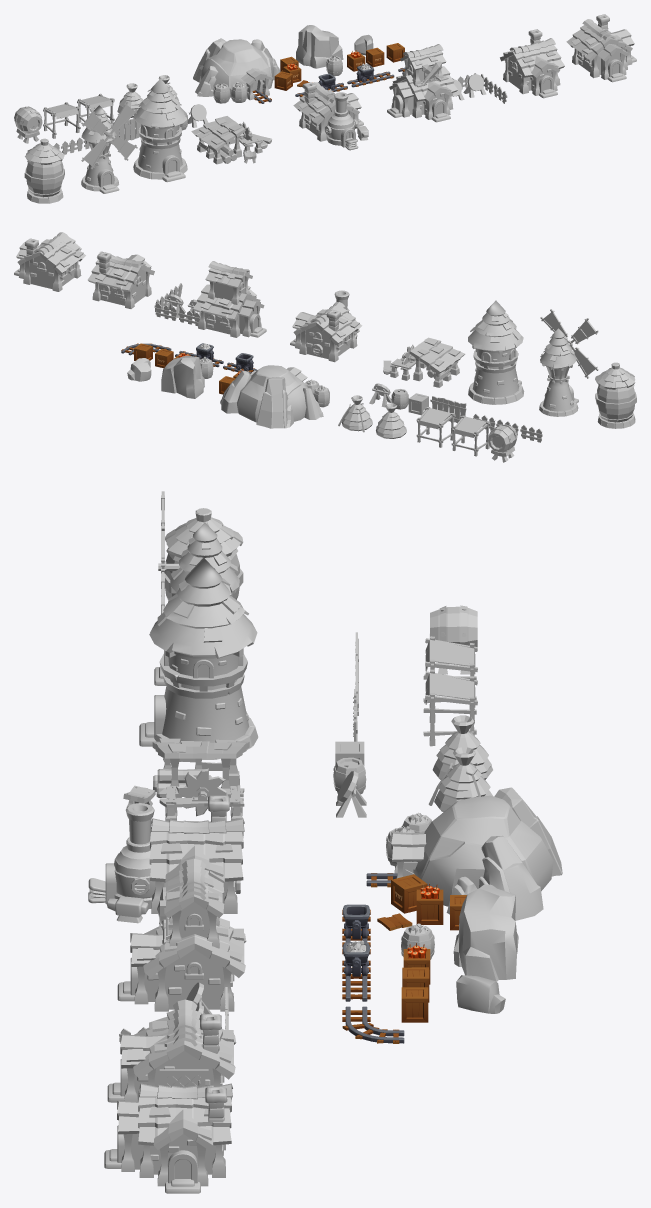
File: medieval_village_pack.fbx
3 renders of one model, top to bottom at view 1: azimuth 30°, elevation 25°; view 2: azimuth 150°, elevation 25°; view 3: azimuth 270°, elevation 25°, orthographic. The views are drawn at different scales.
Visible parts, largest first — view 1: mine, weapons_shop, magic_tower, smithy, house_2, windmill, house_1, sawmill, grain_storage, rock_1, beer_barrel, tent_2 (+10 smaller); view 2: mine, weapons_shop, magic_tower, windmill, smithy, house_2, house_1, sawmill, grain_storage, rock_1, tent_2, tent_1 (+6 smaller); view 3: mine, magic_tower, weapons_shop, smithy, house_2, house_1, sawmill, rock_1, windmill, grain_storage, tent_1, hay_1 (+6 smaller).
Boxes of the visible parts, x1=… form: mine: x1=193, y1=38, x2=312, y2=103; weapons_shop: x1=387, y1=44, x2=507, y2=122; magic_tower: x1=133, y1=78, x2=187, y2=182; smithy: x1=293, y1=82, x2=368, y2=150; house_2: x1=566, y1=14, x2=636, y2=82; windmill: x1=81, y1=102, x2=137, y2=193; house_1: x1=500, y1=29, x2=564, y2=98; sawmill: x1=191, y1=116, x2=271, y2=164; grain_storage: x1=24, y1=138, x2=64, y2=203; rock_1: x1=296, y1=25, x2=343, y2=68; beer_barrel: x1=14, y1=106, x2=42, y2=143; tent_2: x1=43, y1=102, x2=80, y2=138; mine: x1=219, y1=365, x2=329, y2=428; weapons_shop: x1=154, y1=261, x2=266, y2=337; magic_tower: x1=468, y1=300, x2=524, y2=404; windmill: x1=539, y1=309, x2=598, y2=416; smithy: x1=290, y1=290, x2=362, y2=362; house_2: x1=14, y1=232, x2=85, y2=291; house_1: x1=87, y1=251, x2=154, y2=308; sawmill: x1=383, y1=337, x2=464, y2=387; grain_storage: x1=595, y1=362, x2=636, y2=428; rock_1: x1=161, y1=355, x2=204, y2=398; tent_2: x1=451, y1=415, x2=490, y2=456; tent_1: x1=416, y1=407, x2=455, y2=447; mine: x1=366, y1=787, x2=562, y2=930; magic_tower: x1=139, y1=557, x2=258, y2=759; weapons_shop: x1=117, y1=858, x2=246, y2=1041; smithy: x1=88, y1=795, x2=244, y2=923; house_2: x1=104, y1=1083, x2=232, y2=1193; house_1: x1=107, y1=999, x2=236, y2=1102; sawmill: x1=123, y1=738, x2=249, y2=822; rock_1: x1=453, y1=884, x2=518, y2=981; windmill: x1=154, y1=491, x2=240, y2=685; grain_storage: x1=165, y1=508, x2=243, y2=601; tent_1: x1=423, y1=669, x2=477, y2=746; hay_1: x1=428, y1=747, x2=492, y2=811.
Size of the model in its own units: 2985 by 435 by 1021.
